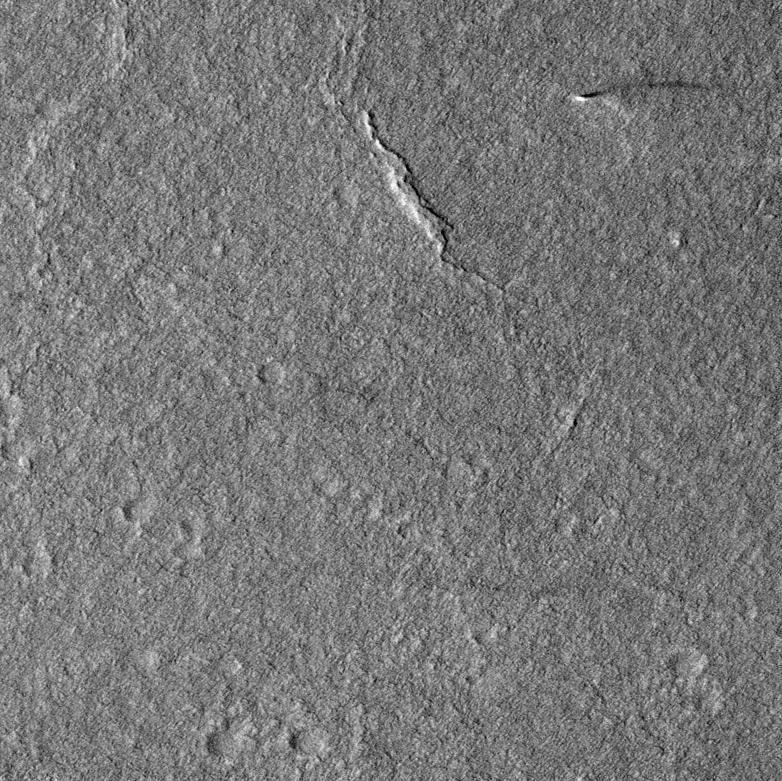dust_devil: (573, 79, 711, 103)
